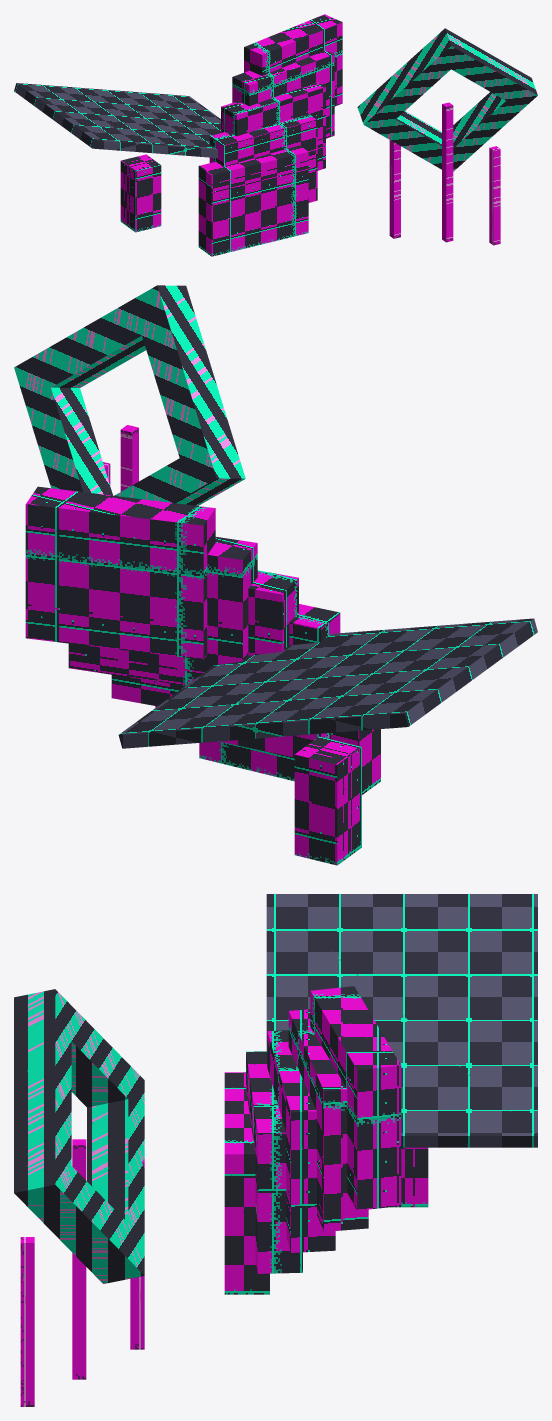
File: lm_unfinished_room.glb
3 renders of one model, top to bottom at view 1: azimuth 30°, elevation 25°; view 2: azimuth 150°, elevation 25°; view 3: azimuth 270°, elevation 25°, orthographic. The views are drawn at different scales.
Parts seen in each view (by area): view 1: lm_unfinished_room; view 2: lm_unfinished_room; view 3: lm_unfinished_room.
Part boxes in pixels (x1,y1,x2,y2): lm_unfinished_room: (14,14,537,256); lm_unfinished_room: (14,285,537,865); lm_unfinished_room: (14,894,537,1406).
Size of the model in its own units: 11.7 by 6.48 by 8.11.
11 materials, 11 textured.
